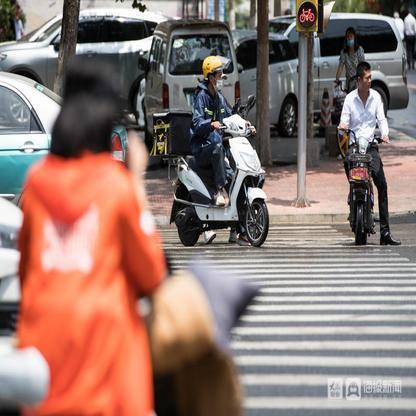target: (171, 53, 274, 251), (335, 60, 402, 249)
